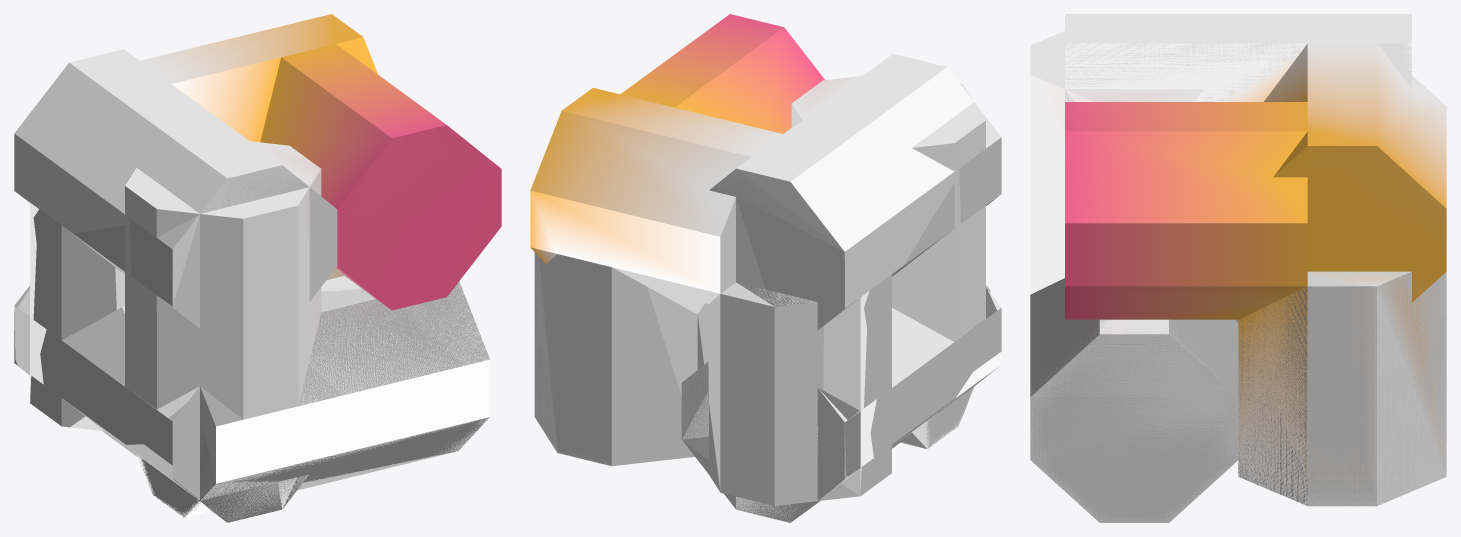
3 views of the same model, side by side, from view 1: azimuth 30°, elevation 25°; view 2: azimuth 150°, elevation 25°; view 3: azimuth 270°, elevation 25° (orthographic). The views are drawn at different scales.
Visible parts, largest first — view 1: Cylinder, Cylinder.007, Cylinder.006, Cylinder.003, Cylinder.005; view 2: Cylinder, Cylinder.004, Cylinder.005, Cylinder.006, Cylinder.003, Cylinder.007; view 3: Cylinder, Cylinder.004, Cylinder.007, Cylinder.003.
Boxes of the visible parts, x1,y1,x2,y2 form: Cylinder: (14, 14, 501, 522); Cylinder.007: (140, 282, 489, 517); Cylinder.006: (14, 286, 309, 522); Cylinder.003: (65, 165, 337, 328); Cylinder.005: (30, 209, 116, 427); Cylinder: (530, 14, 1001, 521); Cylinder.004: (534, 254, 694, 466); Cylinder.005: (697, 274, 891, 505); Cylinder.006: (681, 290, 1001, 522); Cylinder.003: (709, 104, 1001, 329); Cylinder.007: (900, 387, 973, 448); Cylinder: (1030, 14, 1446, 522); Cylinder.004: (1238, 271, 1446, 505); Cylinder.007: (1030, 319, 1238, 522); Cylinder.003: (1065, 43, 1411, 101).
Bounding box in the file's own units: 1.2 × 1.2 × 1.2.
